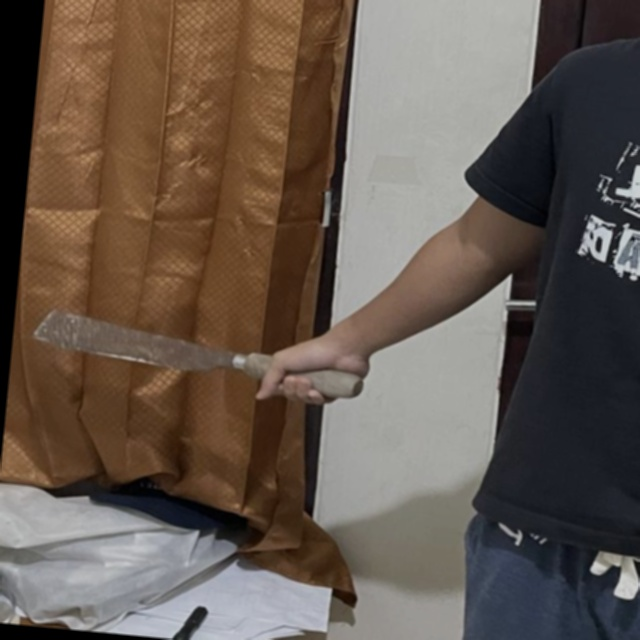Sharp-Object: (24, 302, 372, 402)
